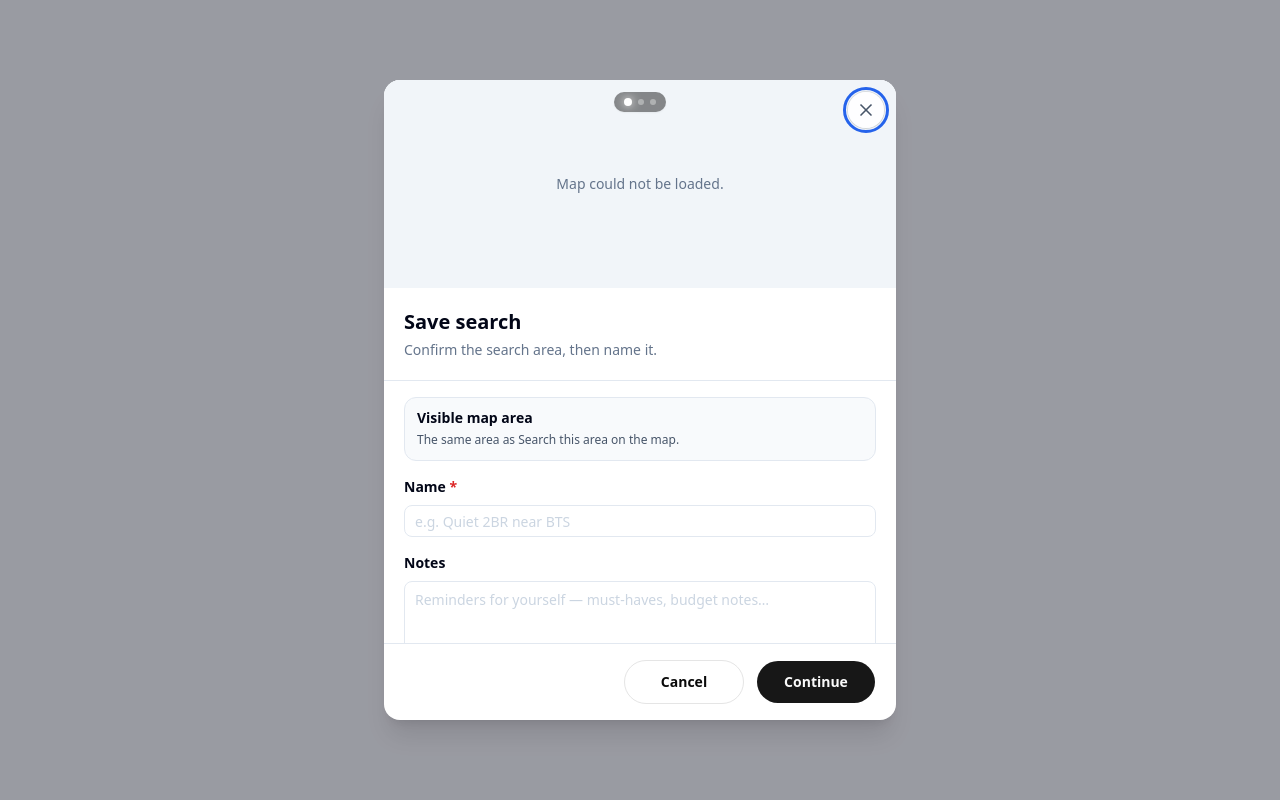
Test: ConfirmCreateSavedSearchModal › details step › clears the name error once the user starts typing
This screenshot has width=1280, height=800.
Click the button "Continue" at point(816, 682), box [756,660,876,704]
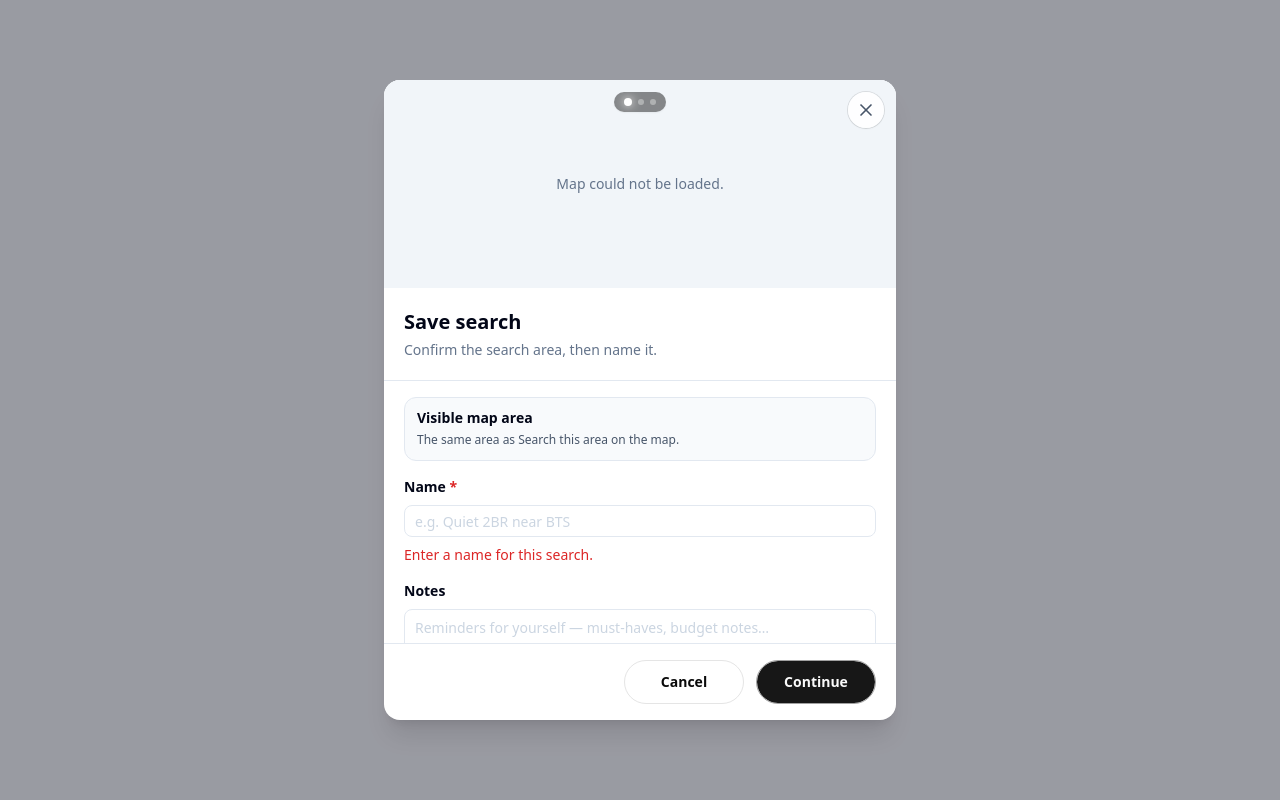
Check: the text "Enter a name for this search." is shown, box [404,545,593,564]
Type "F" into the field labelled "Name *" at point(640, 521), box [404,505,876,537]
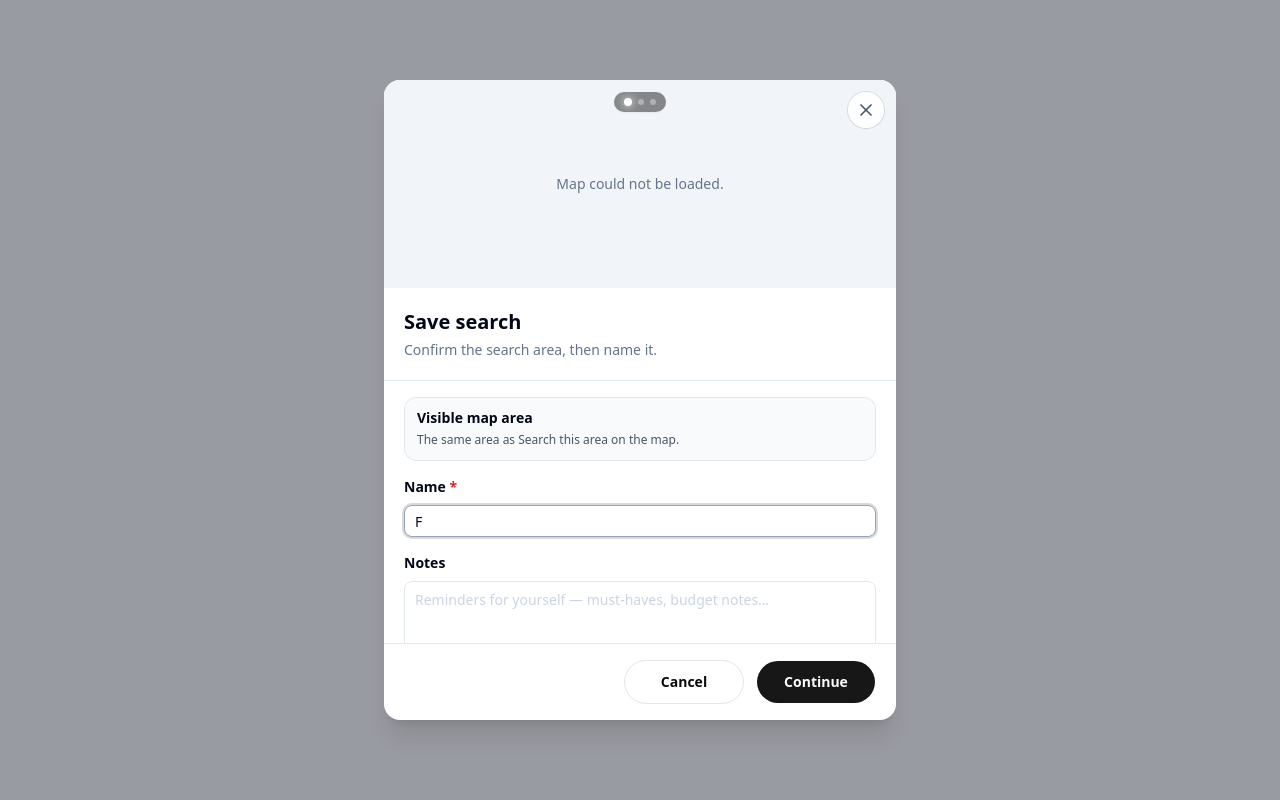
Check: the text "Enter a name for this search." is gone
